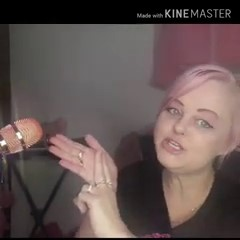N: (41, 127, 128, 226)
